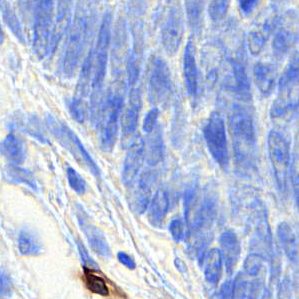Lymphocyte: (80, 263, 110, 296)
